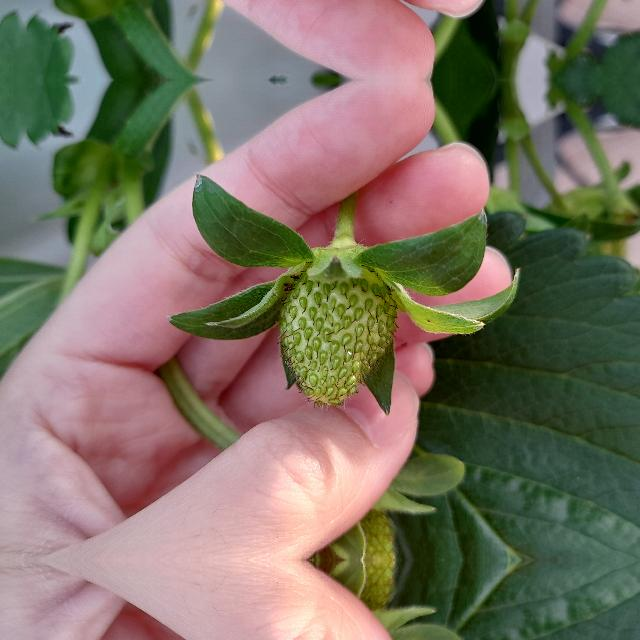Health_25: (274, 266, 400, 412)
